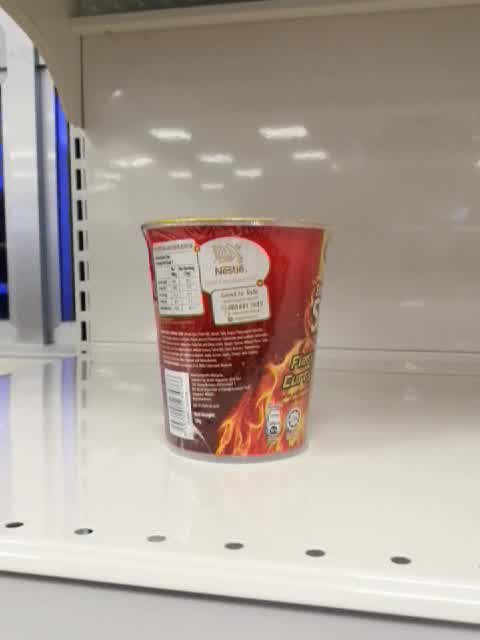maggi: (140, 215, 334, 465)
